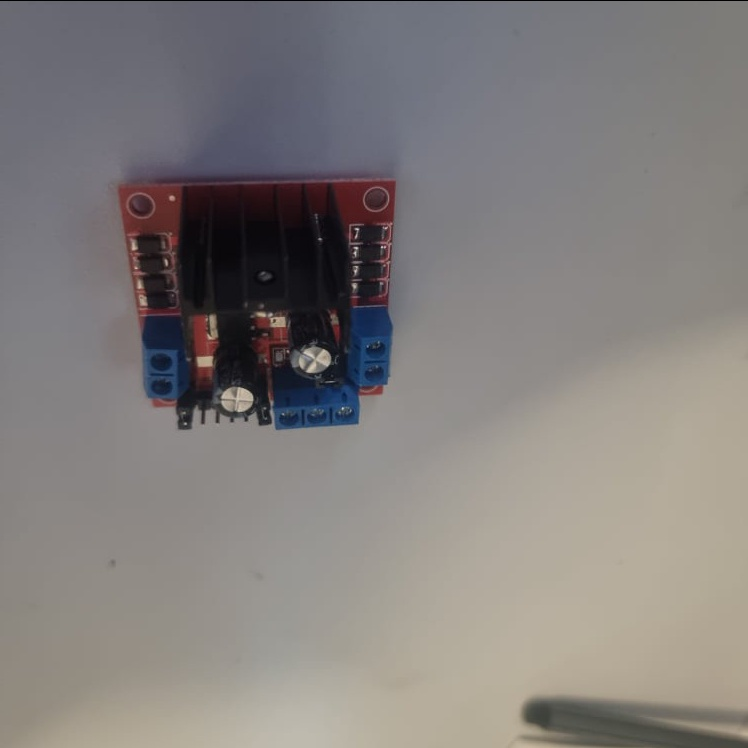MOTOR: (114, 173, 394, 436)
